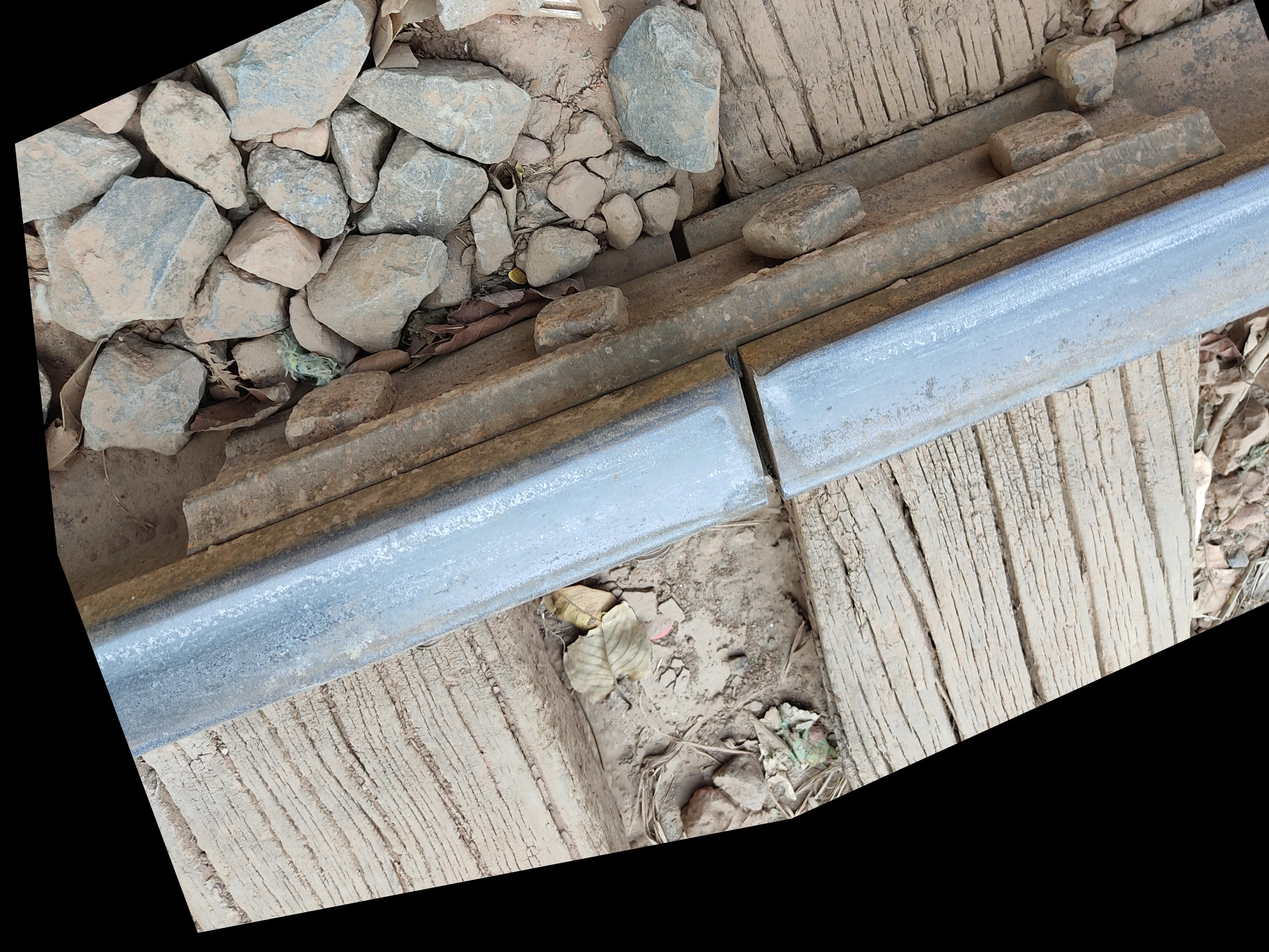person: (421, 678, 562, 826), (424, 628, 483, 689)
